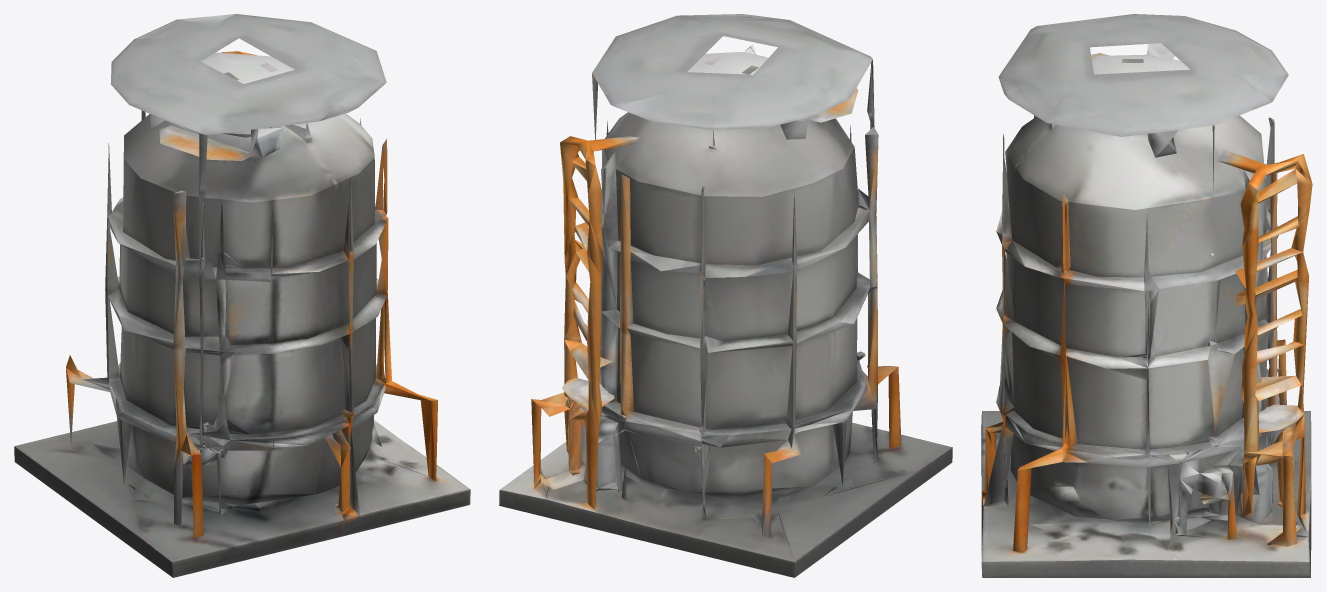
Rendered from m2ReactorBg.glb.
3 renders of one model, left to right at view 1: azimuth 30°, elevation 25°; view 2: azimuth 150°, elevation 25°; view 3: azimuth 270°, elevation 25°, orthographic. The views are drawn at different scales.
Visible parts, largest first — view 1: model; view 2: model; view 3: model.
Boxes of the visible parts, x1=… form: model: x1=14, y1=14, x2=470, y2=577; model: x1=499, y1=14, x2=952, y2=577; model: x1=981, y1=14, x2=1312, y2=577.
Bounding box in the file's own units: 1.39 × 1.9 × 1.29.
Materials: 1 (1 with a texture image).
